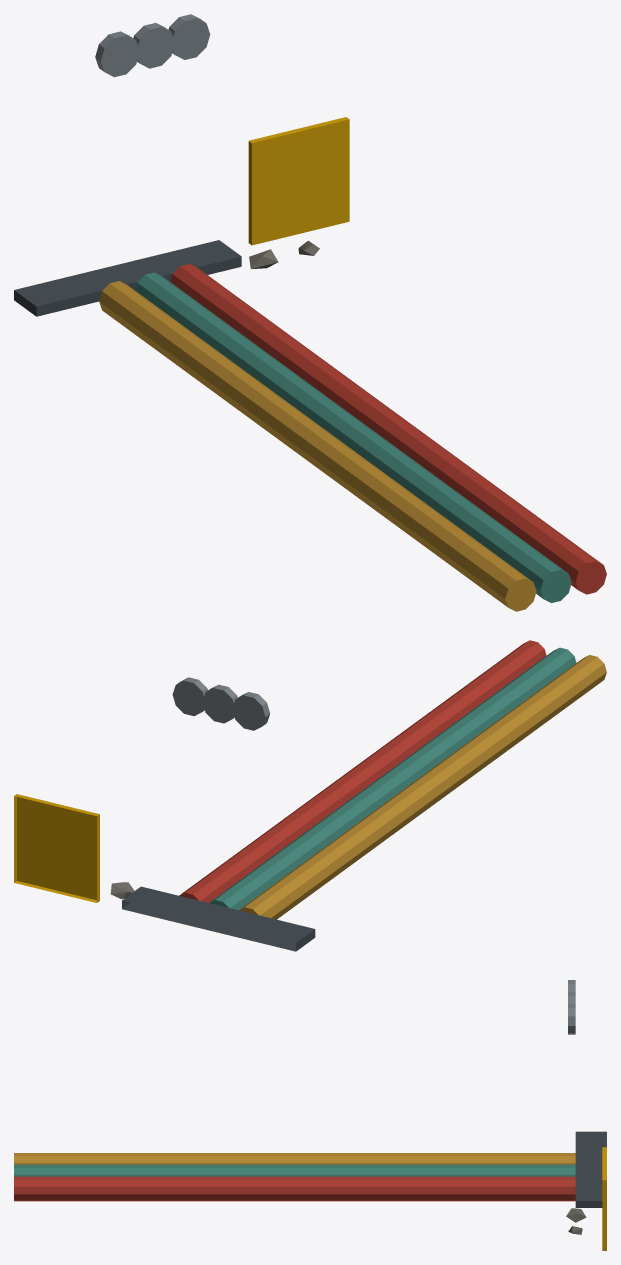
File: overlay_1.fbx
3 views of the same model, one above another, from view 1: azimuth 30°, elevation 25°; view 2: azimuth 150°, elevation 25°; view 3: azimuth 270°, elevation 25° (orthographic). The views are drawn at different scales.
Visible parts, largest first — view 1: overlay_1; view 2: overlay_1; view 3: overlay_1.
Boxes of the visible parts, <box> form: overlay_1: <box>14,14,606,611</box>; overlay_1: <box>14,640,606,951</box>; overlay_1: <box>14,980,606,1250</box>.
Size of the model in its own units: 1.7 by 1.37 by 3.8.
